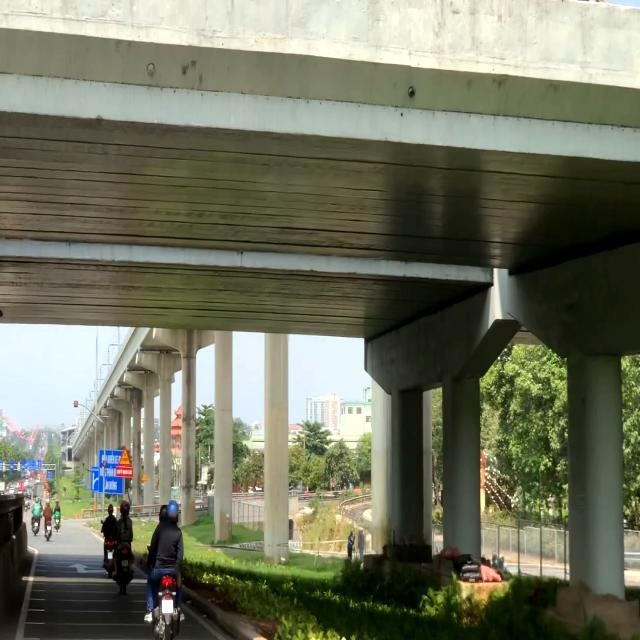bien_nguy_hiem: (119, 446, 131, 466)
